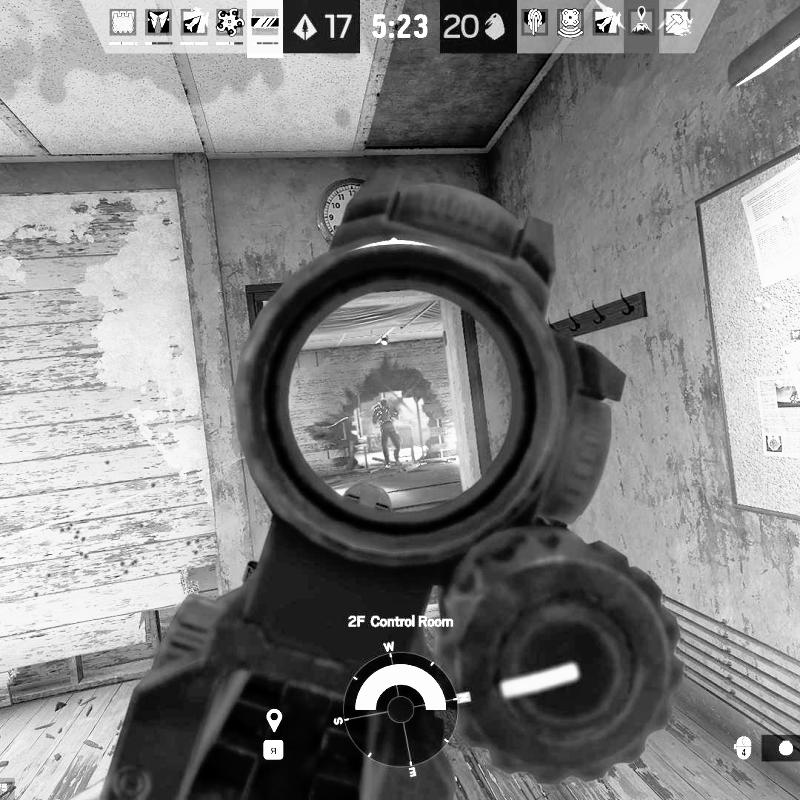Character: (372, 398, 404, 469)
Friend_label: (785, 329, 800, 354)
Head: (380, 399, 389, 407)
